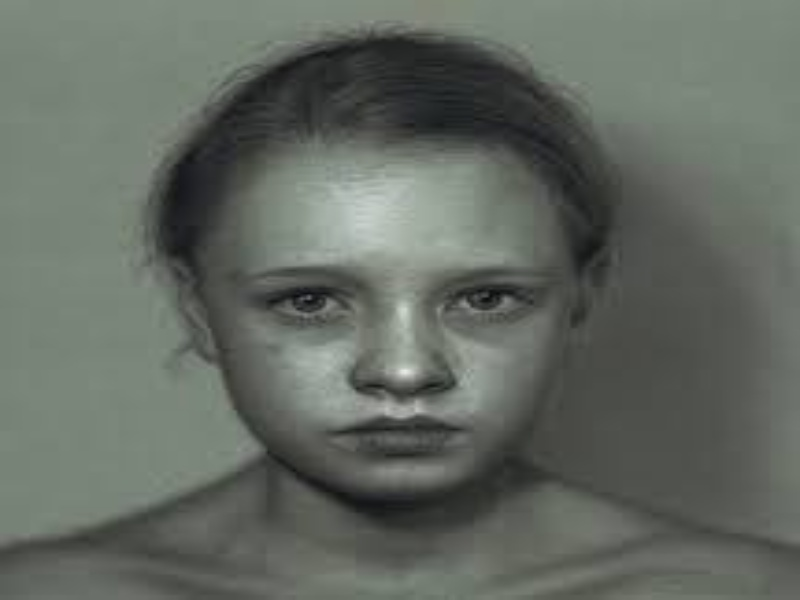face: (243, 186, 558, 480)
